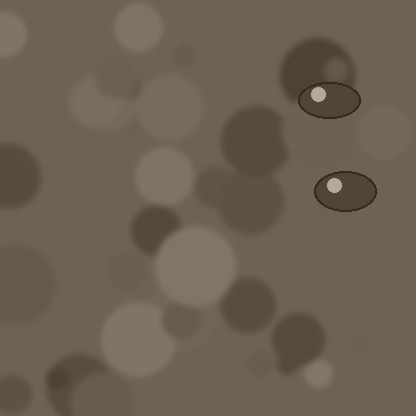gota: (314, 173, 376, 215), (298, 83, 360, 121)
